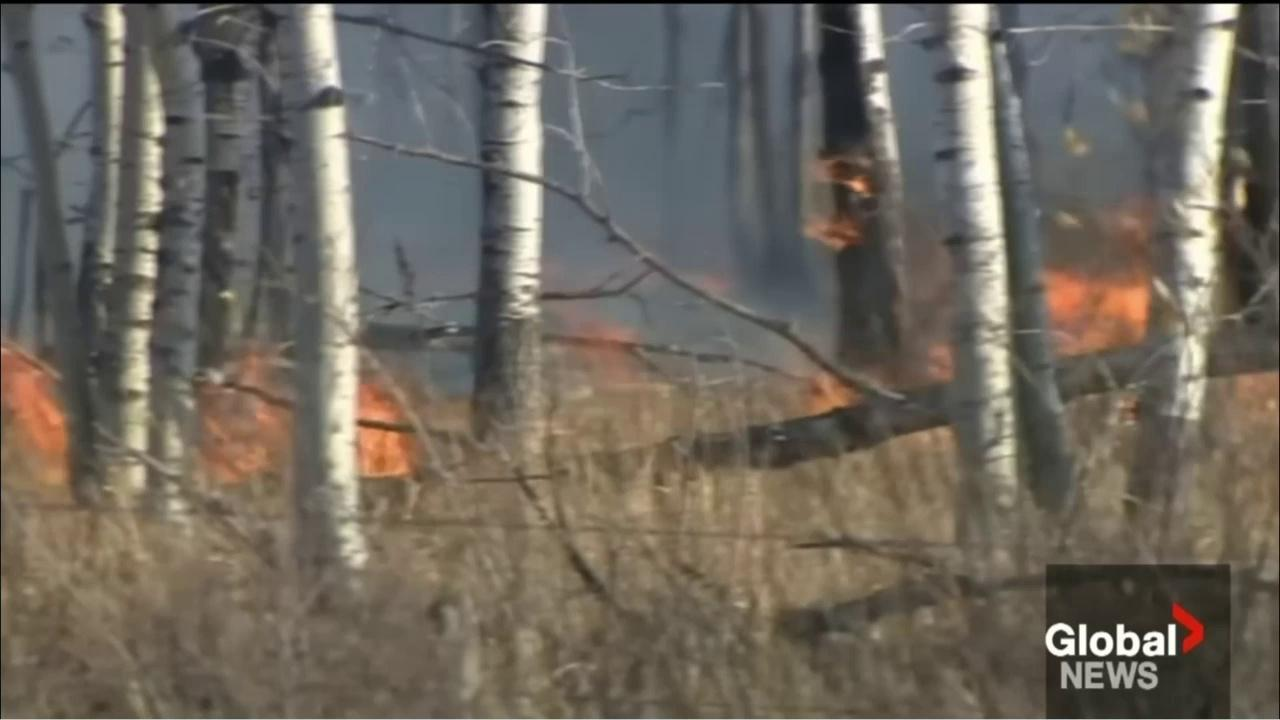fire: (193, 343, 299, 486), (1032, 259, 1157, 366), (2, 340, 73, 492), (555, 314, 653, 392), (345, 382, 413, 481), (806, 147, 879, 199), (804, 367, 866, 422), (803, 209, 865, 252), (920, 339, 956, 384), (698, 274, 734, 298)
smoke: (1, 5, 1159, 403)
